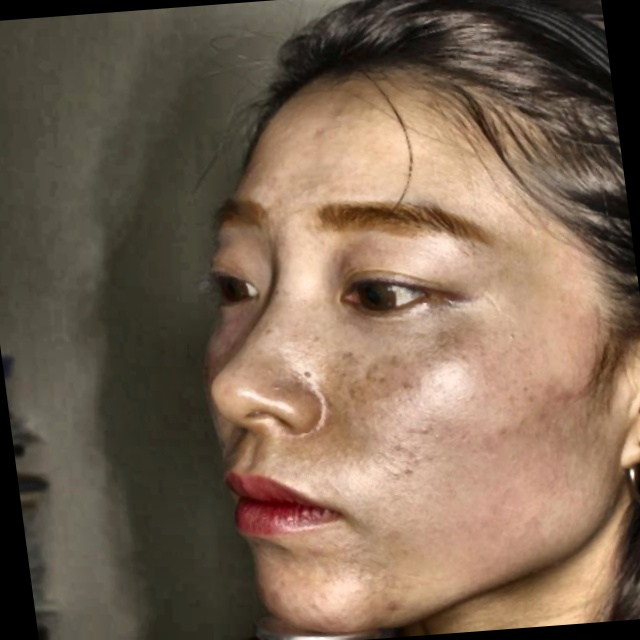comedone: (369, 597, 401, 624)
